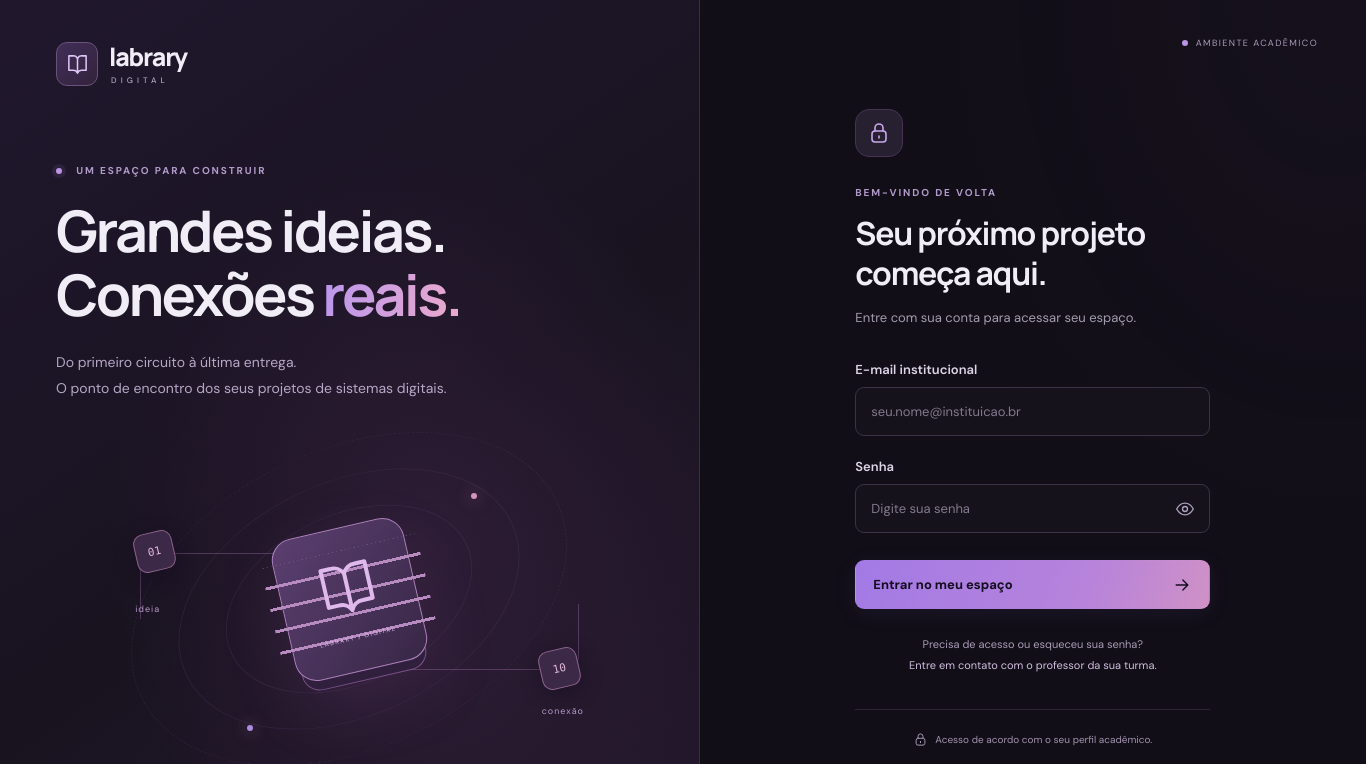
HU01: interface › exibe erro de credenciais sem sair da tela de login
The width and height of the screenshot is (1366, 764).
Type "aluno@labrary.local" into the field labelled "E-mail institucional" at [1033, 412], box 855,387 -> 1210,436
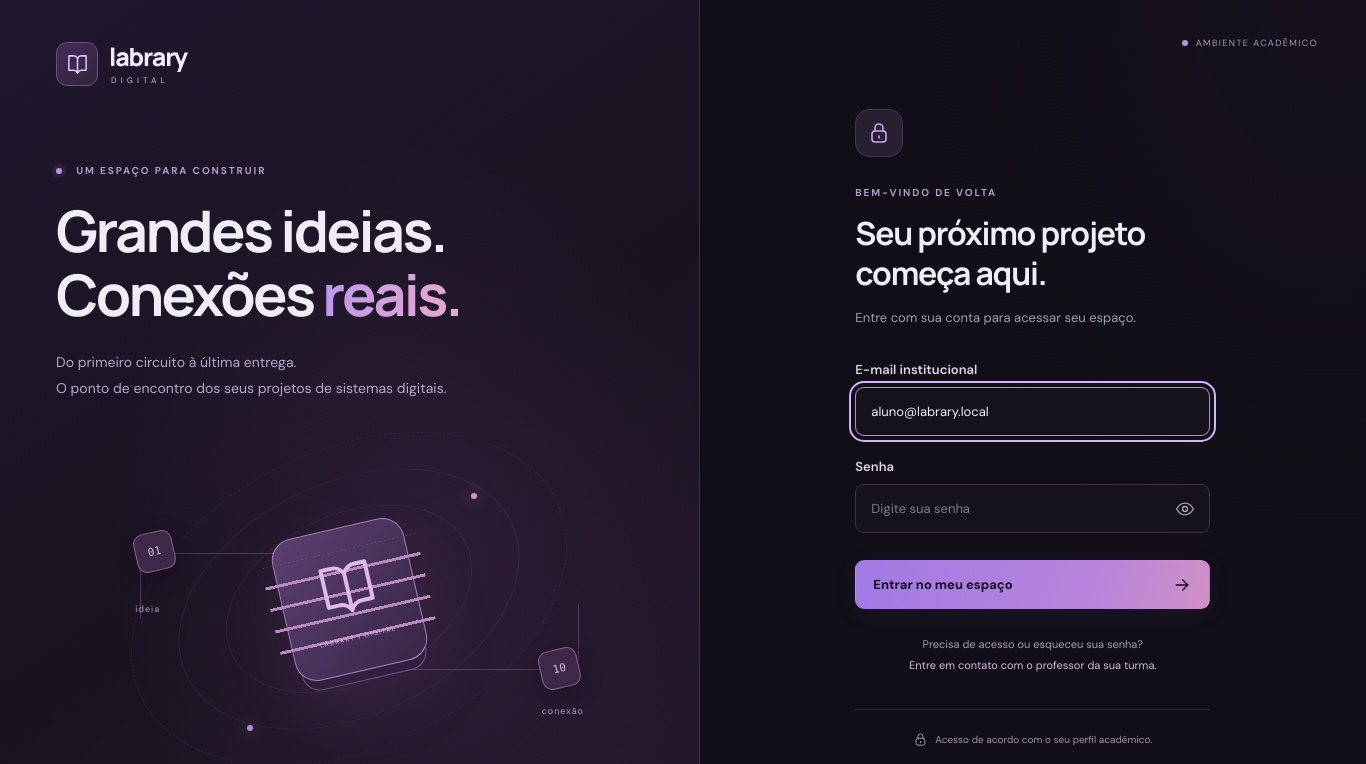
Type "Senha123!" into the password field labelled "Senha" at [1033, 509], box 855,484 -> 1210,533
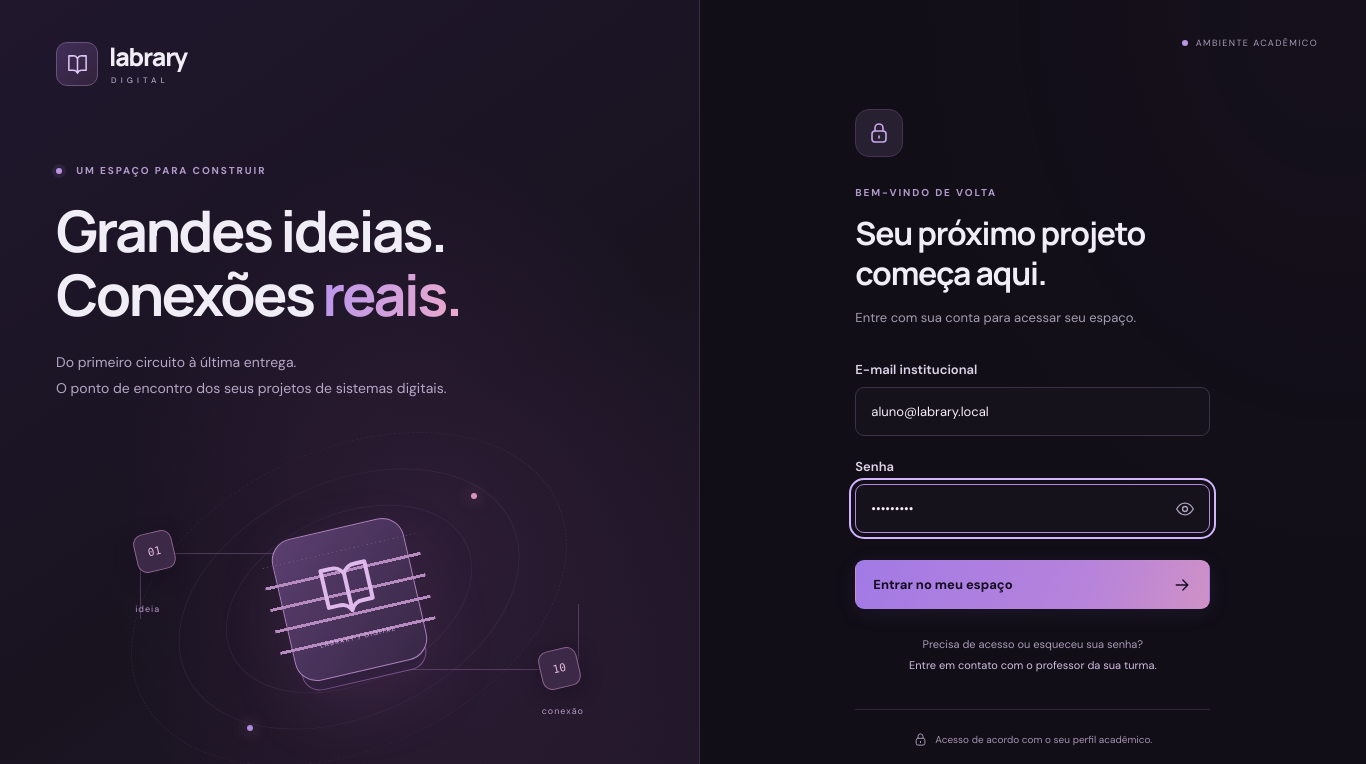
Click the button "Entrar no meu espaço" at [943, 585], box 855,560 -> 1210,609
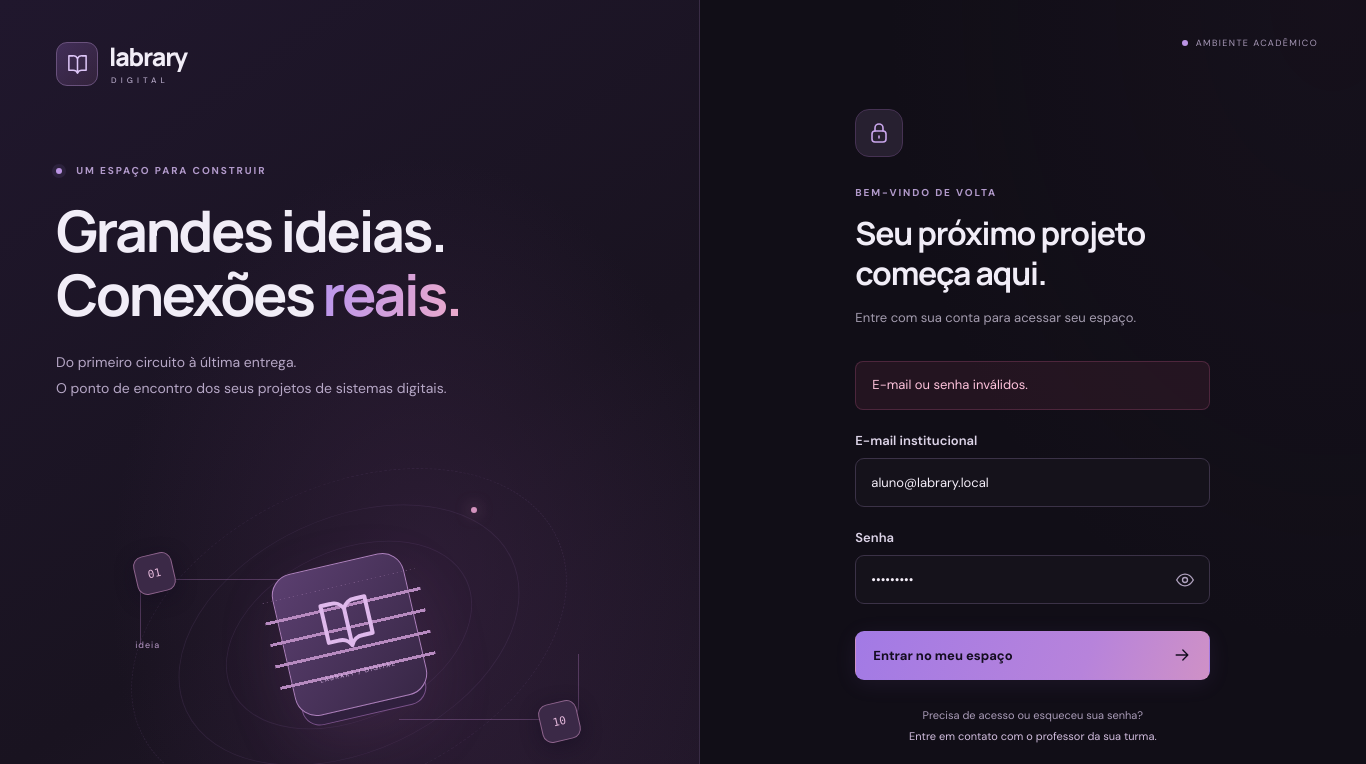
Check: the message reads "E-mail ou senha inválidos.", box 872,376 -> 1028,393
